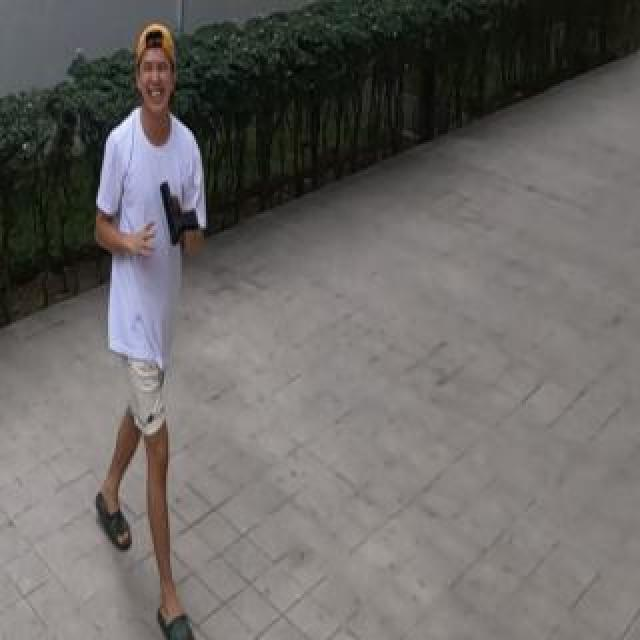Guns: (154, 173, 204, 250)
